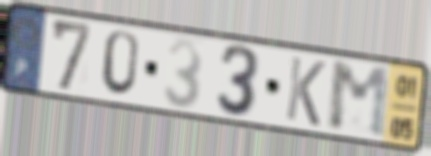0: (98, 28, 141, 99)
3: (214, 43, 264, 121), (162, 36, 205, 111)
7: (49, 17, 95, 93)
K: (283, 53, 328, 130)
M: (327, 60, 392, 141)
